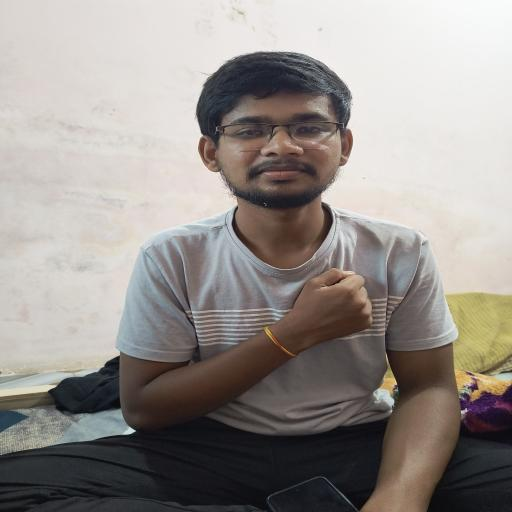Understood: (107, 200, 402, 438)
